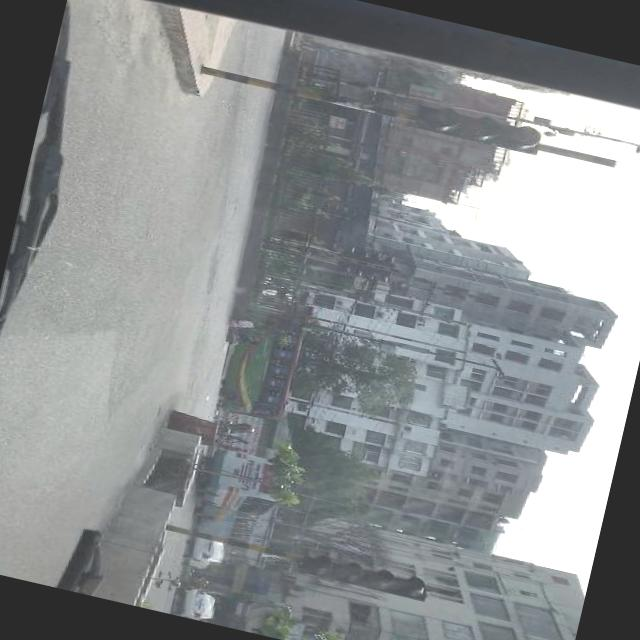bus: (216, 289, 316, 425), (195, 442, 298, 520), (192, 500, 264, 546)
car: (180, 534, 225, 574), (172, 586, 216, 622)
motorcycle: (208, 412, 256, 450)
